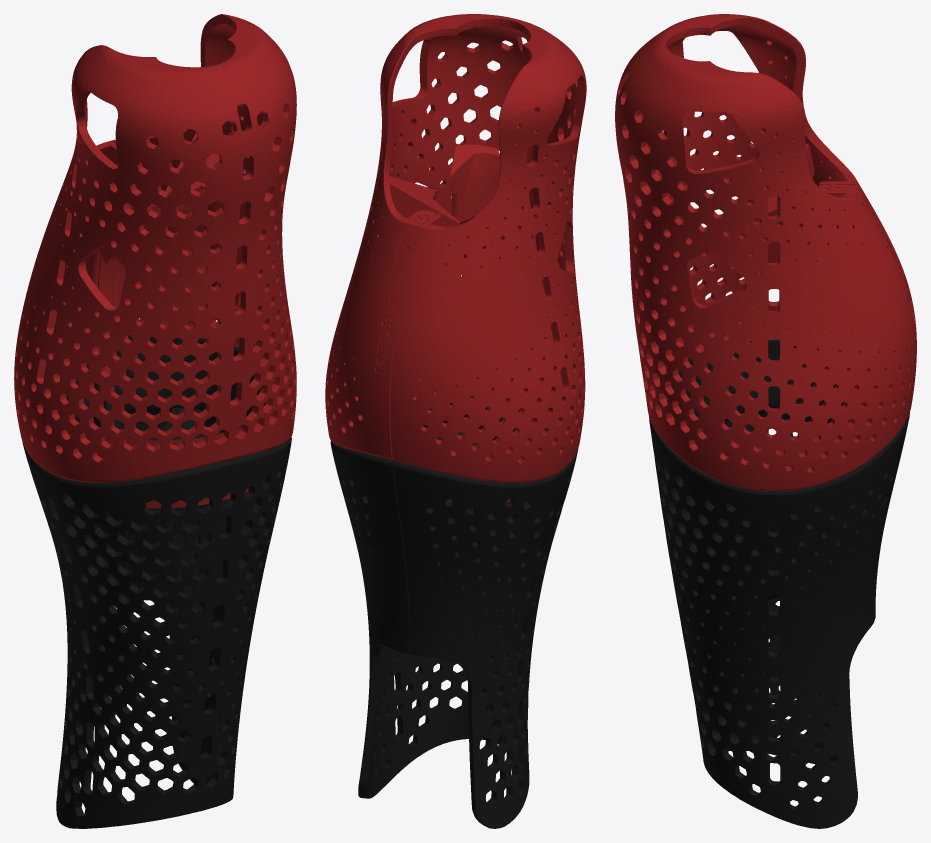
The model's file is cosmetic5.glb.
3 views of the same model, side by side, from view 1: azimuth 30°, elevation 25°; view 2: azimuth 150°, elevation 25°; view 3: azimuth 270°, elevation 25° (orthographic). The views are drawn at different scales.
Parts seen in each view (by area): view 1: Бобер п, Бобер п 1; view 2: Бобер п, Бобер п 1; view 3: Бобер п, Бобер п 1.
Part boxes in pixels (x1,y1,x2,y2): Бобер п: (14,14,296,508); Бобер п 1: (22,335,291,828); Бобер п: (325,14,586,507); Бобер п 1: (330,385,578,828); Бобер п: (615,14,916,490); Бобер п 1: (649,339,909,828).
Bounding box in the file's own units: 130 × 409 × 149.
